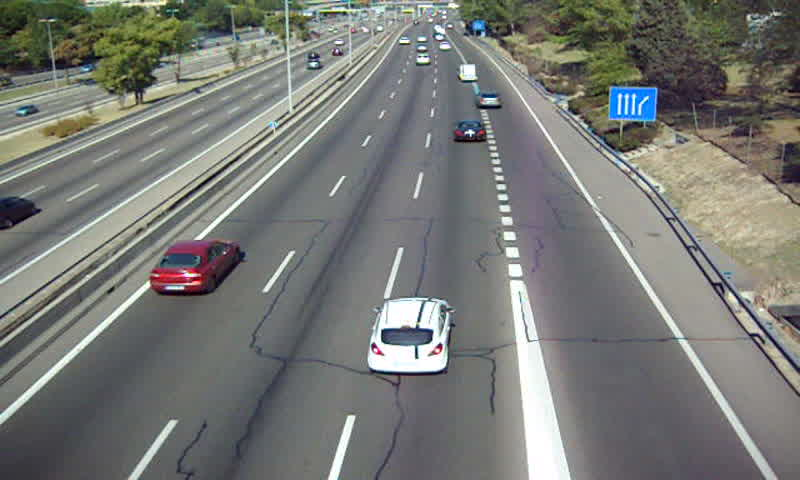car: (368, 297, 450, 373), (149, 239, 239, 292), (452, 121, 487, 143), (477, 91, 502, 109), (416, 52, 430, 64)
van: (459, 63, 477, 80)
